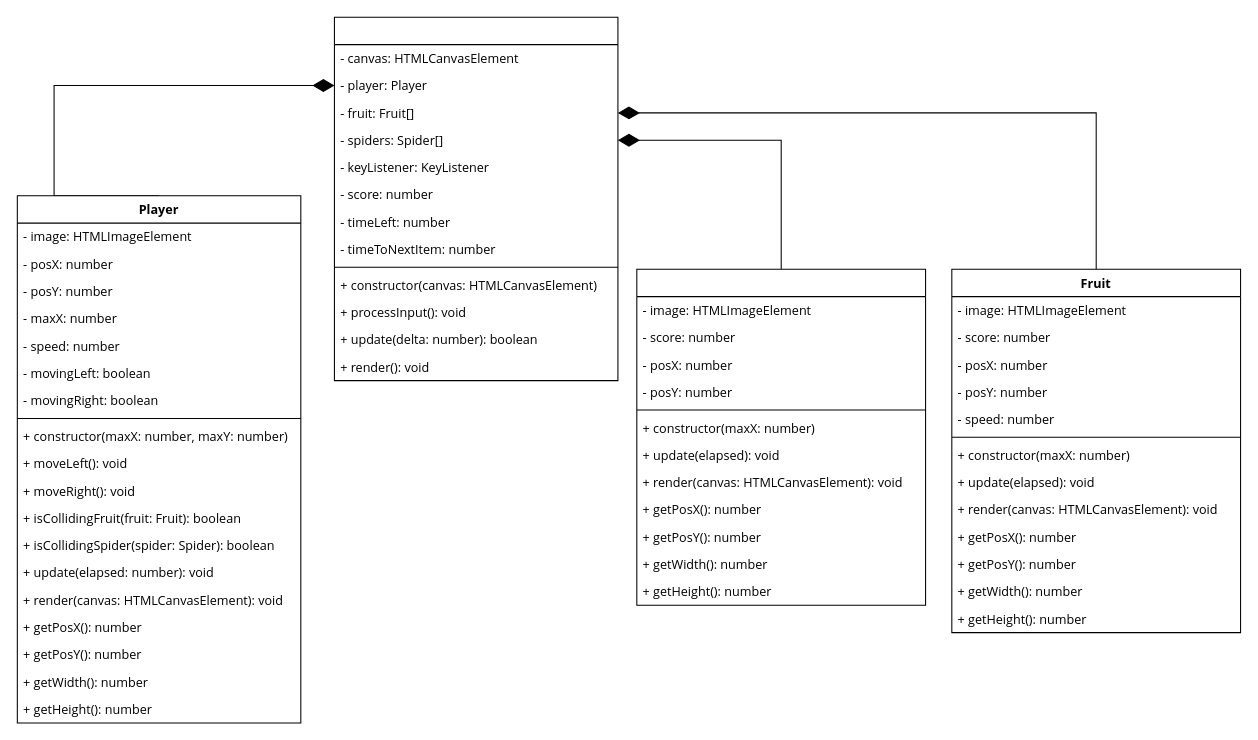
This 1258x740 diagram has some shape labels left out. Here are the shapes that lost their labels. From the top down, the box of each, then its label:
(333, 16, 618, 381): FruitDrop
(636, 268, 926, 605): Spider
